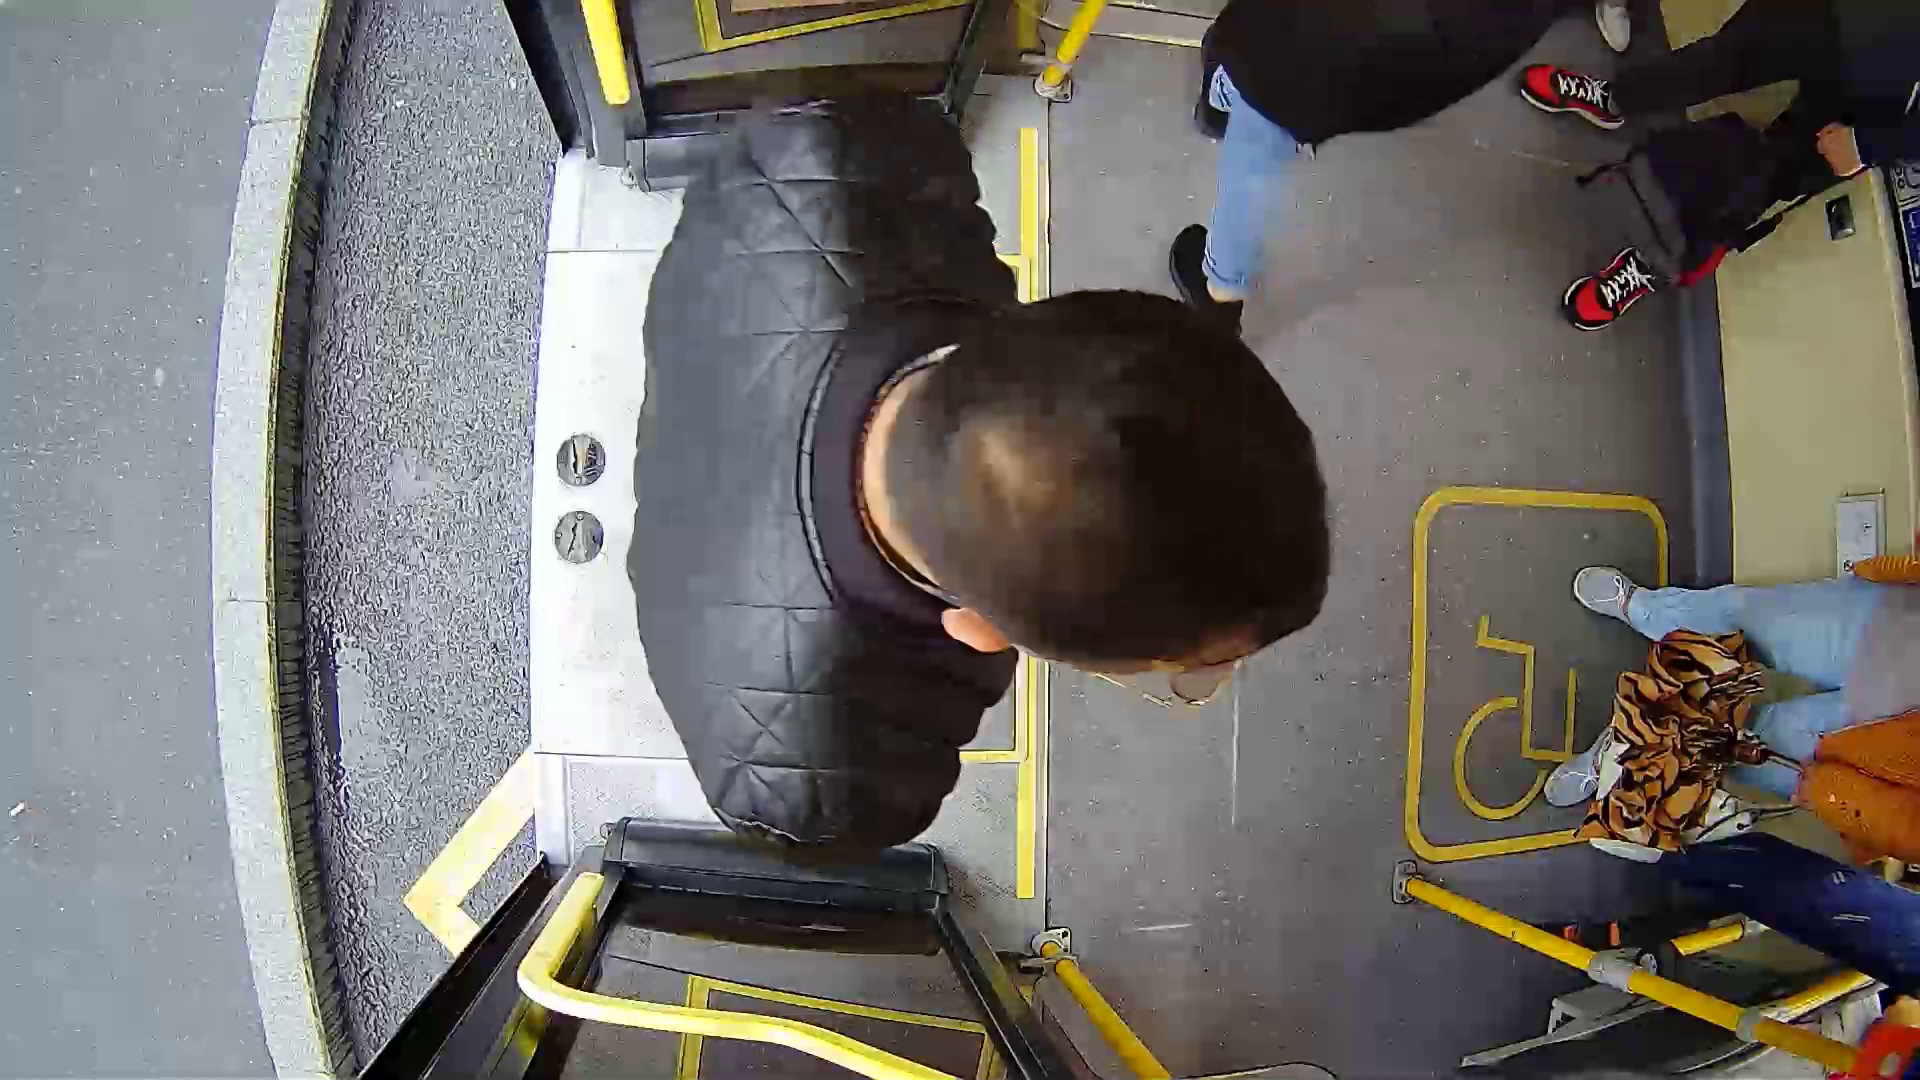person: (570, 95, 1354, 874)
